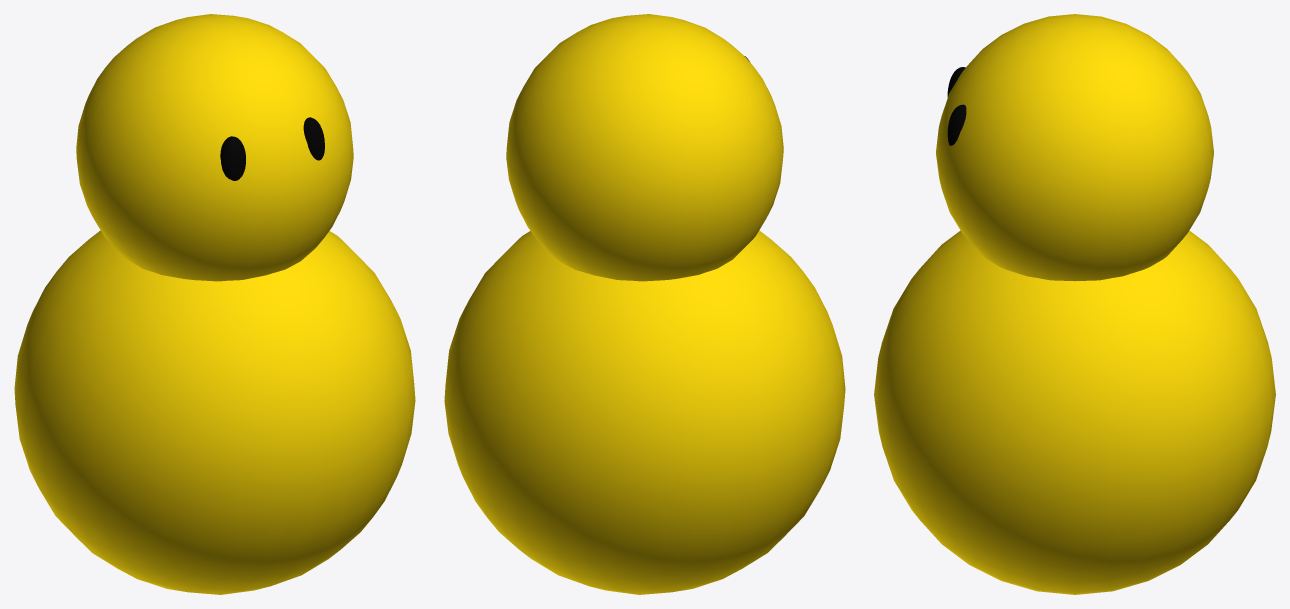
Rendered from PlayerVisual.glb.
3 views of the same model, side by side, from view 1: azimuth 30°, elevation 25°; view 2: azimuth 150°, elevation 25°; view 3: azimuth 270°, elevation 25° (orthographic).
Visible parts, largest first — view 1: Body, Head, Eye_R, Eye_L; view 2: Body, Head; view 3: Body, Head, Eye_L.
Part boxes in pixels (x1,y1,x2,y2): Body: [14, 230, 415, 594]; Head: [76, 14, 353, 281]; Eye_R: [220, 136, 245, 180]; Eye_L: [303, 117, 324, 160]; Body: [444, 230, 845, 594]; Head: [506, 14, 783, 281]; Body: [874, 230, 1275, 594]; Head: [936, 14, 1213, 281]; Eye_L: [947, 104, 966, 145].
Bounding box in the file's own units: 1.3 × 1.96 × 1.3.
